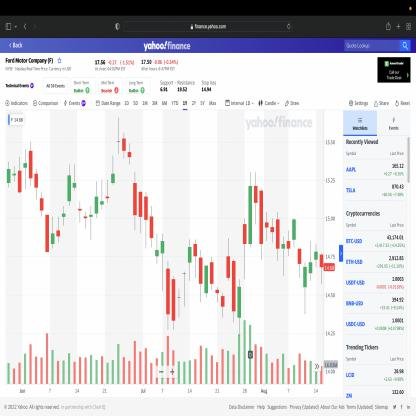Bearish: 3 Black Crows: (34, 166, 50, 254), (28, 138, 44, 219)
Bearish: Kicker: (160, 232, 170, 332)
